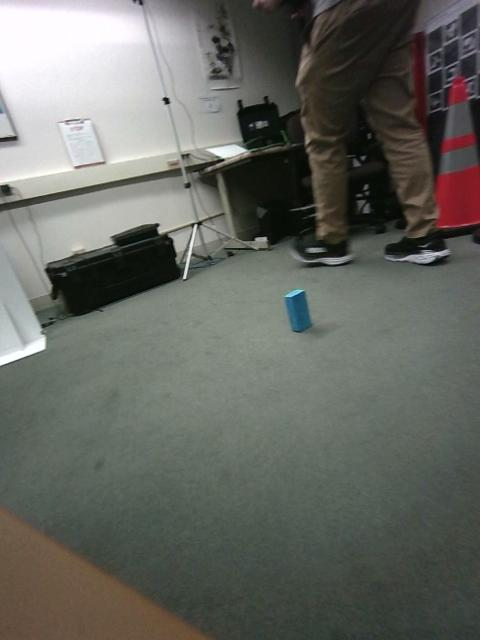block: (364, 346, 409, 427)
